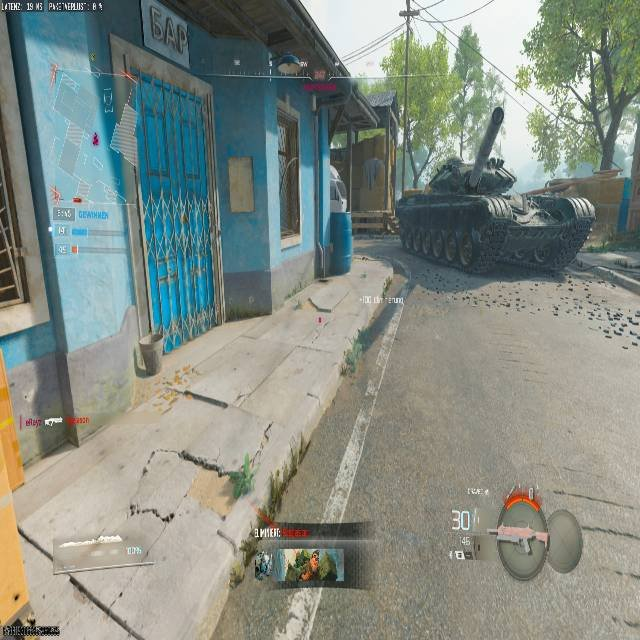player: (295, 549, 321, 582), (255, 551, 270, 580)
